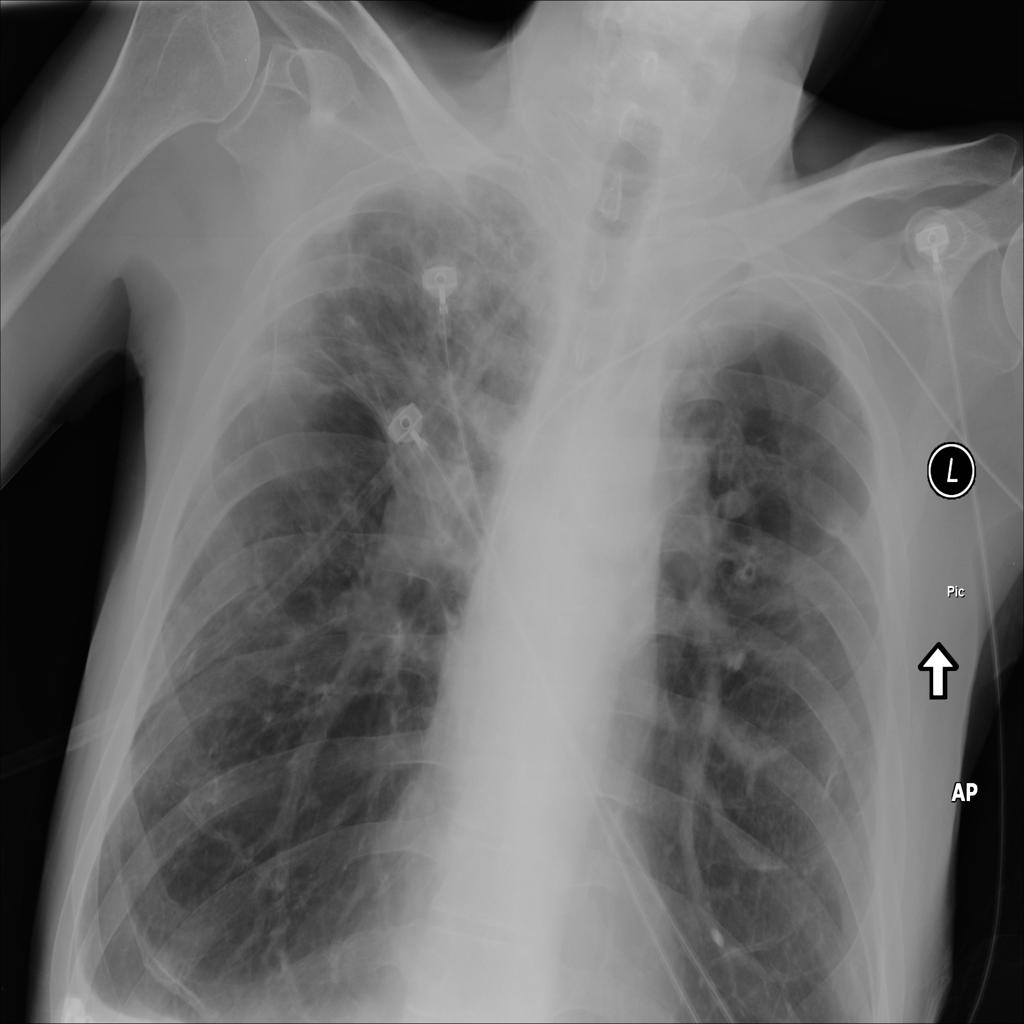nodule: (716, 473, 766, 526)
